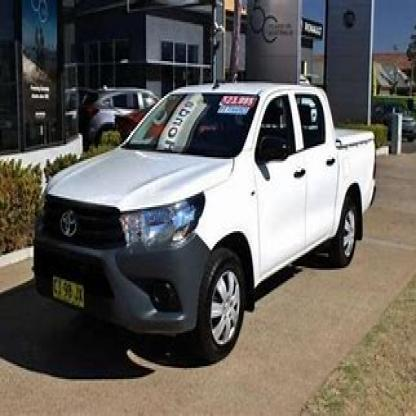light_vehicle: (25, 66, 396, 361)
